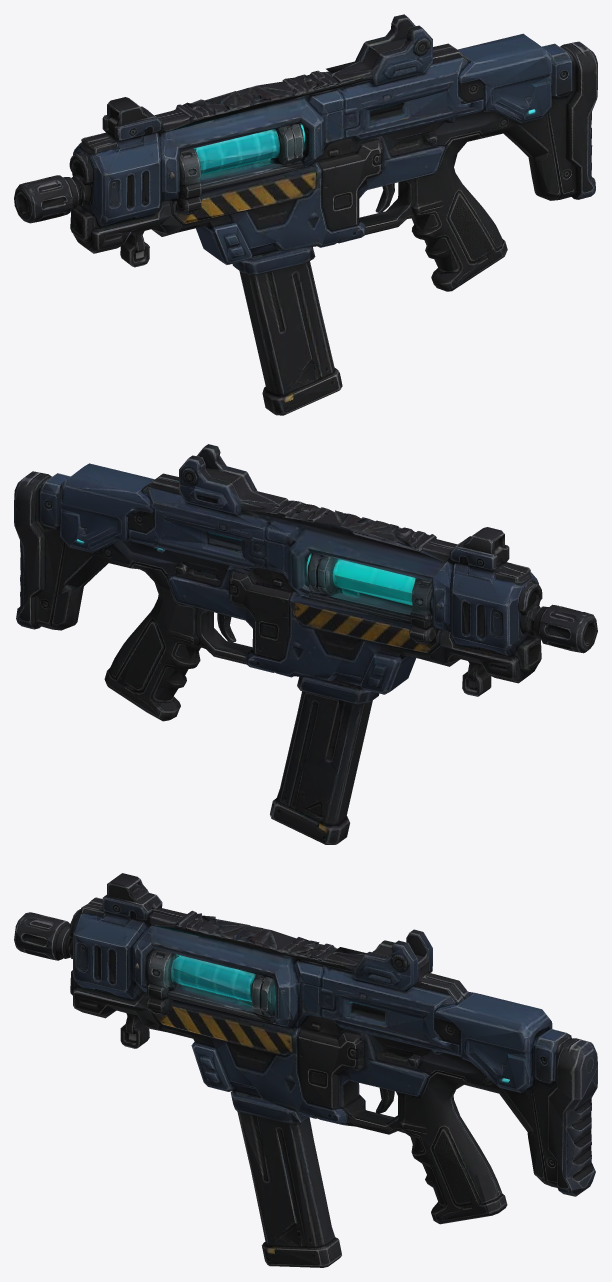
The model's file is gun_smg_opt.glb.
3 views of the same model, one above another, from view 1: azimuth 30°, elevation 25°; view 2: azimuth 150°, elevation 25°; view 3: azimuth 330°, elevation 25° (orthographic).
Visible parts, largest first — view 1: mesh_node; view 2: mesh_node; view 3: mesh_node.
Part boxes in pixels (left/top/right/bottom): mesh_node: left=14, top=14, right=597, bottom=415; mesh_node: left=14, top=444, right=597, bottom=844; mesh_node: left=14, top=873, right=597, bottom=1267.
Bounding box in the file's own units: 1.9 × 1.14 × 0.2356.
Materials: 1 (1 with a texture image).
